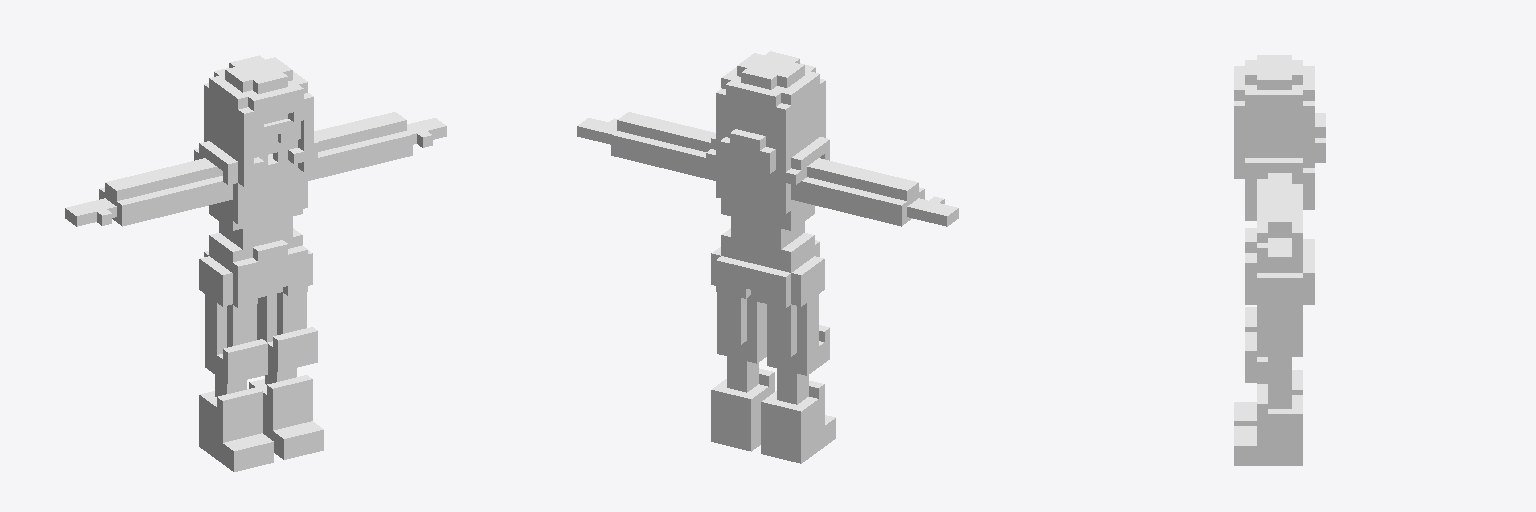
File: Character-0.obj
3 renders of one model, left to right at view 1: azimuth 30°, elevation 25°; view 2: azimuth 150°, elevation 25°; view 3: azimuth 270°, elevation 25°, orthographic.
Parts seen in each view (by area): view 1: object 1; view 2: object 1; view 3: object 1.
Boxes of the visible parts, x1=… form: object 1: x1=65, y1=55, x2=446, y2=471; object 1: x1=577, y1=51, x2=958, y2=463; object 1: x1=1234, y1=55, x2=1325, y2=465.
Size of the model in its own units: 7.4 by 7.2 by 1.6.